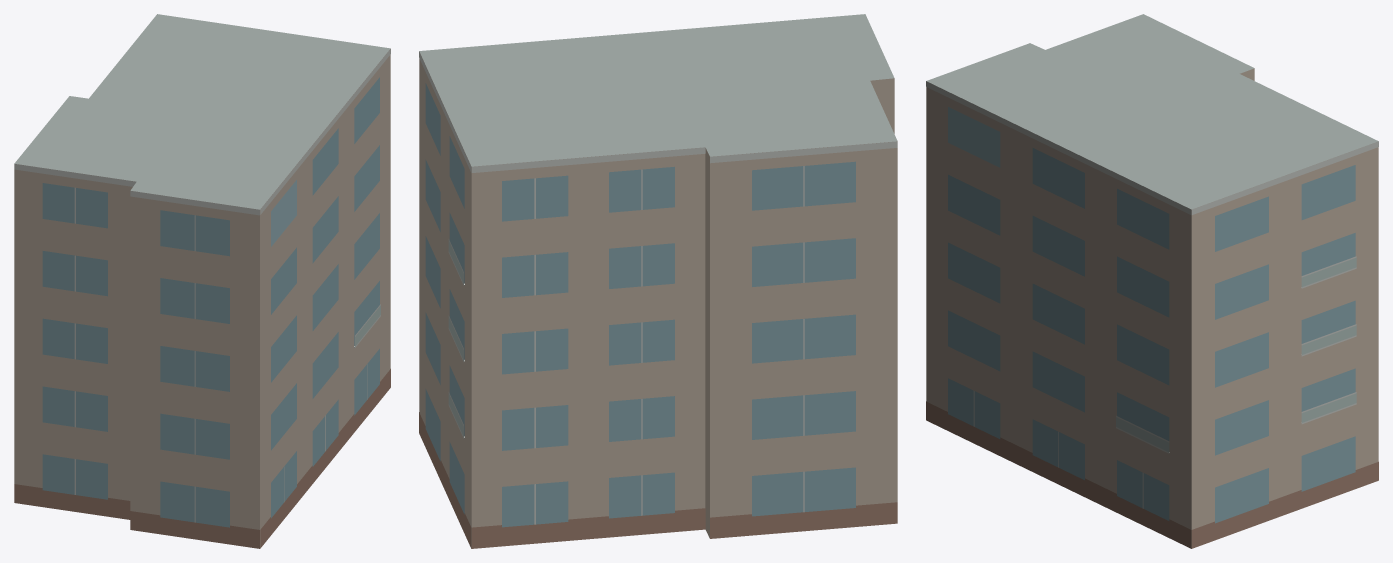
Rendered from survey-upis-33002243.glb.
3 renders of one model, left to right at view 1: azimuth 30°, elevation 25°; view 2: azimuth 150°, elevation 25°; view 3: azimuth 270°, elevation 25°, orthographic. The views are drawn at different scales.
Visible parts, largest first — view 1: survey-upis-33002243.tmp; view 2: survey-upis-33002243.tmp; view 3: survey-upis-33002243.tmp.
Part boxes in pixels (box(x1,y1,x2,y2)): survey-upis-33002243.tmp: box(14, 14, 390, 548); survey-upis-33002243.tmp: box(419, 14, 897, 548); survey-upis-33002243.tmp: box(926, 14, 1378, 548).
Bounding box in the file's own units: 17.75 × 14.35 × 17.36.
